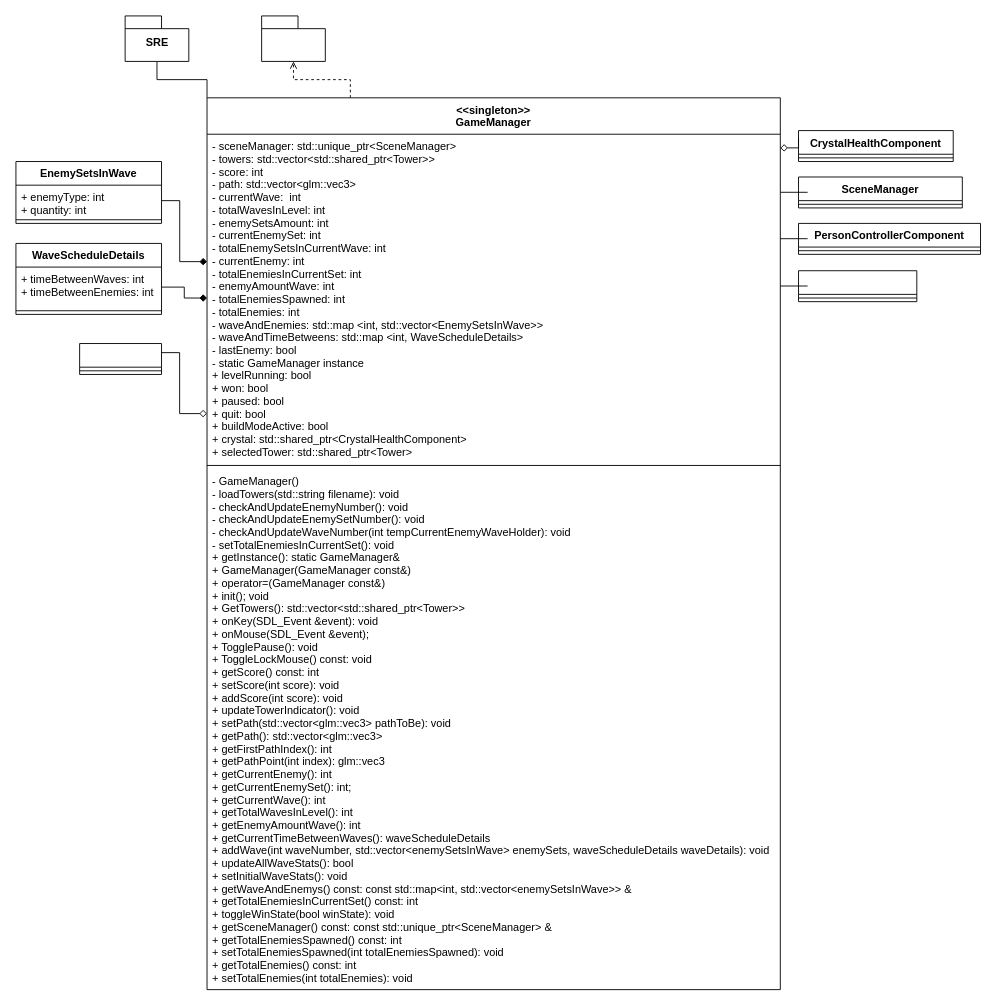
Image size: 996x1008. Some labels were removed from this diagram. Each missing label, with the centre of its shape:
MusicBuffer: (x=857, y=286)
Rapidjson: (x=293, y=38)
Tower: (x=120, y=358)
